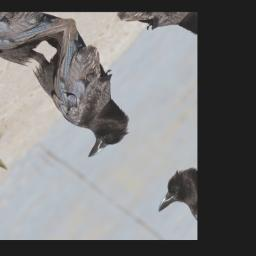Crow: (6, 20, 167, 168)
